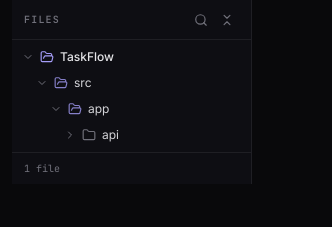
Test: FileExplorer › opens and closes folders
This screenshot has width=332, height=227.
Step 1. Click the button "api" → [132, 135], box [12,122,251,148]
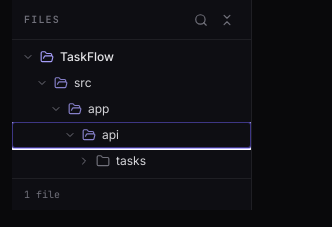
Now the text "tasks" is shown, box [116,152,146,170]
Step 2. Click the button "api" → [132, 135], box [12,122,251,148]
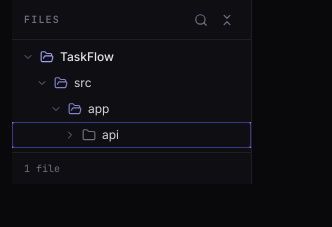
Now the button "tasks" is gone
